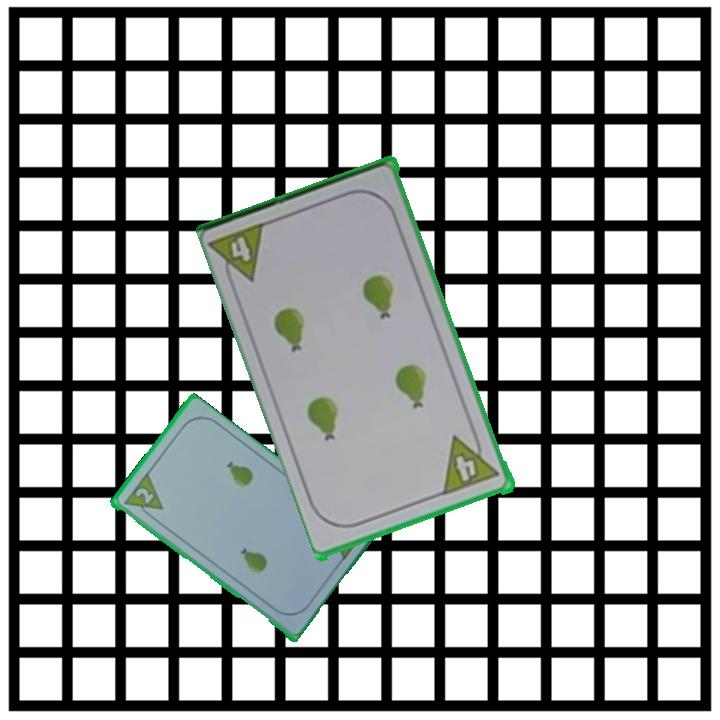2p: (131, 484, 156, 507)
4p: (208, 218, 271, 292), (440, 427, 503, 498)
